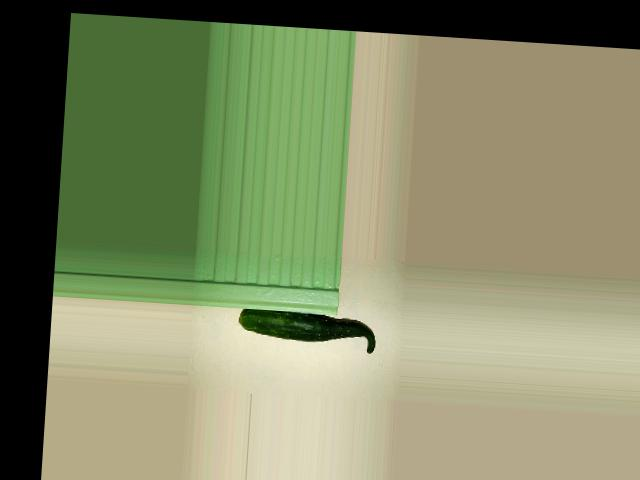cucumber: (237, 308, 377, 353)
